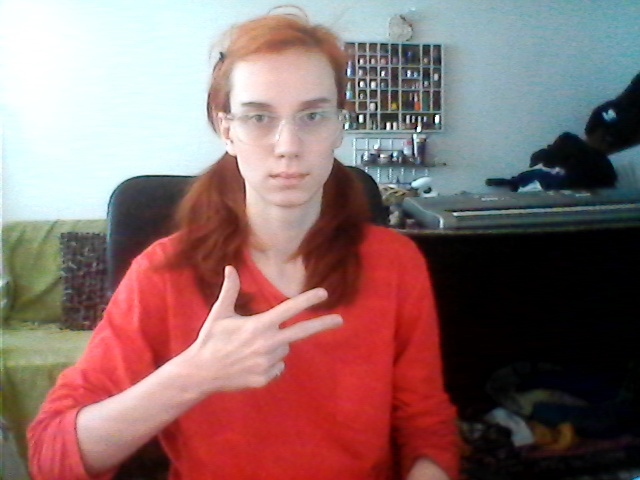tri: (190, 262, 345, 392)
